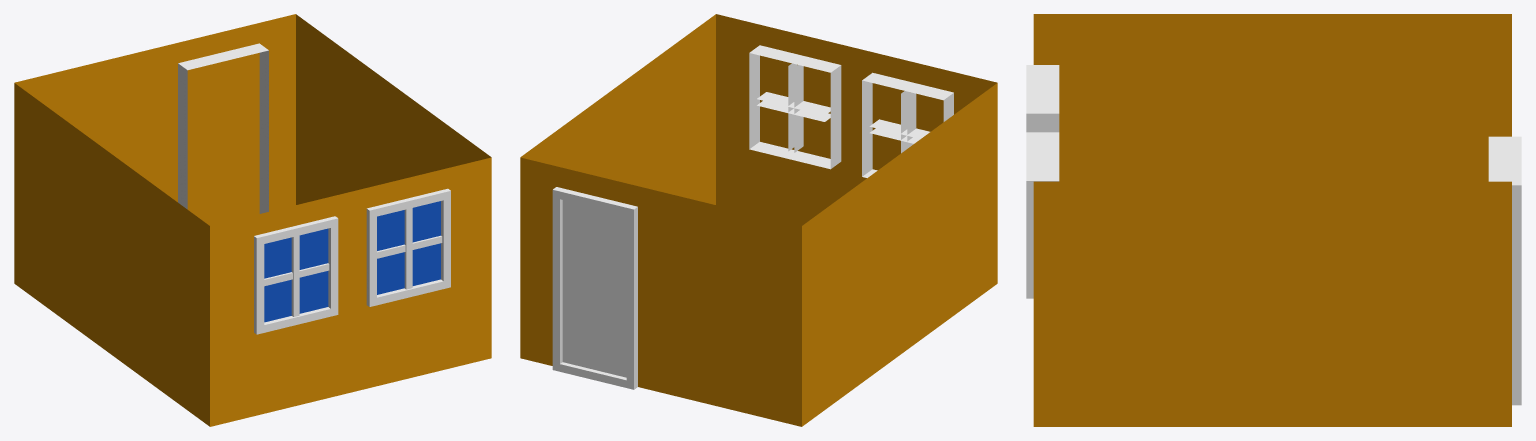
Rendered from CityBuildingA_01_base.fbx.
3 views of the same model, side by side, from view 1: azimuth 30°, elevation 25°; view 2: azimuth 150°, elevation 25°; view 3: azimuth 270°, elevation 25° (orthographic). The views are drawn at different scales.
Visible parts, largest first — view 1: CityBuildingA_01_base; view 2: CityBuildingA_01_base; view 3: CityBuildingA_01_base.
Part boxes in pixels (left/top/right/bottom): CityBuildingA_01_base: left=14, top=14, right=491, bottom=426; CityBuildingA_01_base: left=520, top=14, right=997, bottom=426; CityBuildingA_01_base: left=1026, top=14, right=1521, bottom=426.
Size of the model in its own units: 0.4513 by 0.3075 by 0.563.
